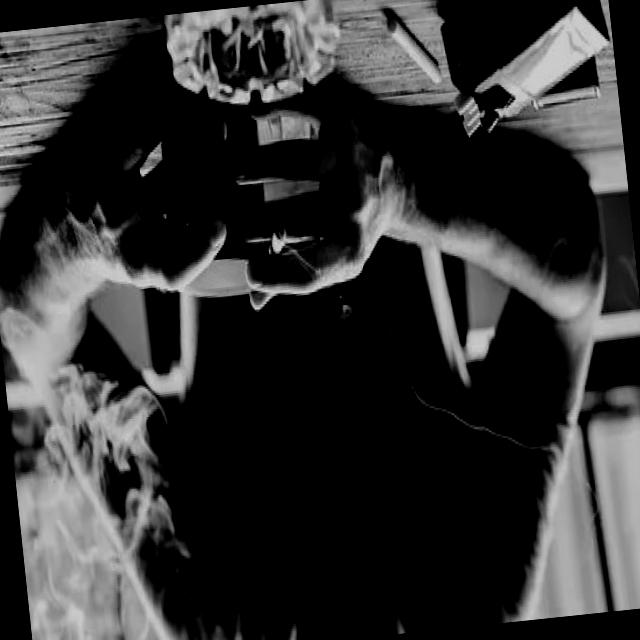smoke: (376, 5, 444, 96), (444, 84, 486, 138), (260, 222, 292, 268)
